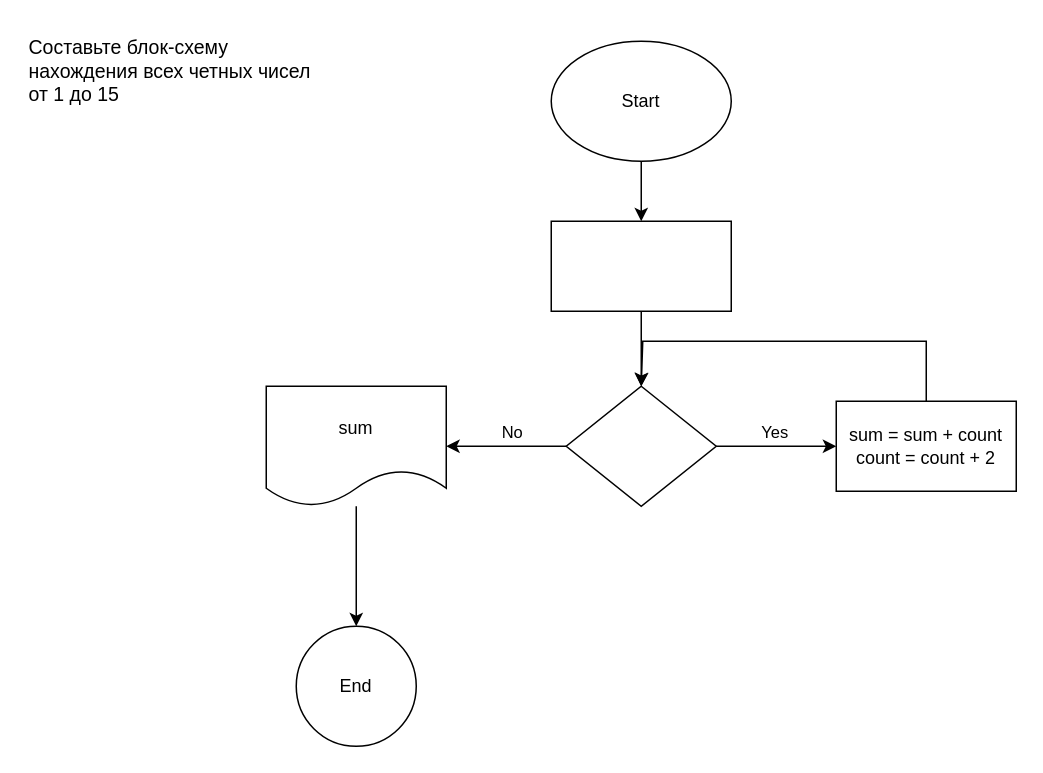
Image size: 1043x773. Some labels were removed from this diagram. Here are the shapes that lost their labels. From the top down, the centre of each, then its label:
At point 640,265: "сount = 2 sum = 0".
At point 640,445: "count < 15".
